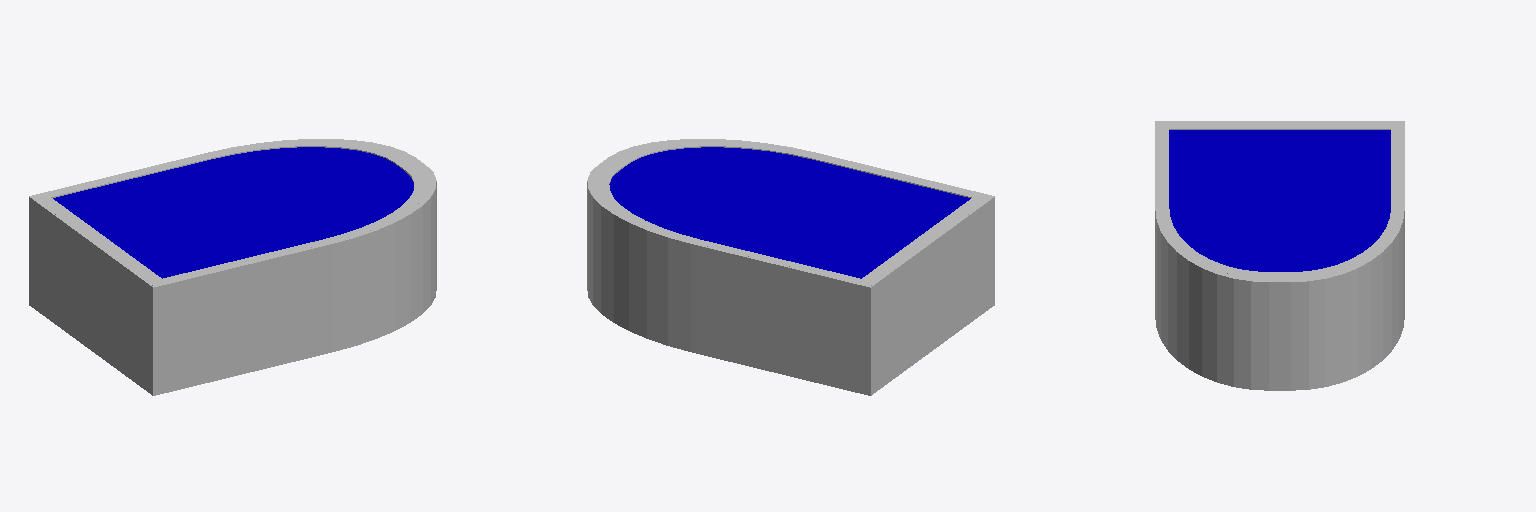
File: fingercase2.obj
The picture shows the model from 3 angles: view 1: azimuth 30°, elevation 25°; view 2: azimuth 150°, elevation 25°; view 3: azimuth 270°, elevation 25°; orthographic projection.
Parts seen in each view (by area): view 1: fingertip, fingerplate; view 2: fingertip, fingerplate; view 3: fingertip, fingerplate.
Part boxes in pixels (left/top/right/bottom): fingertip: left=29, top=139, right=436, bottom=395; fingerplate: left=53, top=147, right=413, bottom=278; fingertip: left=587, top=139, right=994, bottom=395; fingerplate: left=609, top=147, right=970, bottom=278; fingertip: left=1155, top=121, right=1404, bottom=390; fingerplate: left=1169, top=130, right=1390, bottom=271.
Size of the model in its own units: 1.26 by 0.3967 by 0.8271.